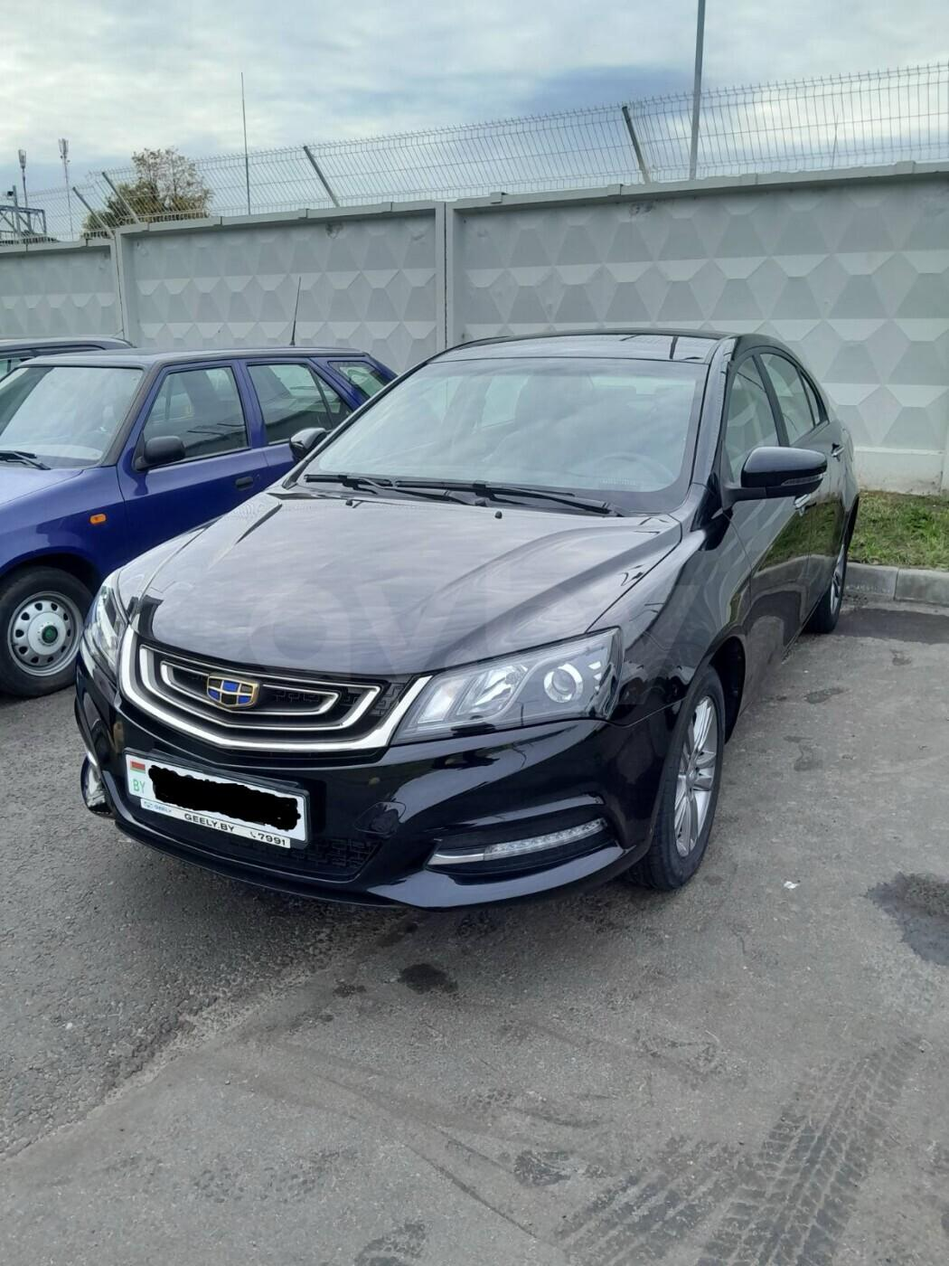Emgrand_2019-2021: (74, 326, 859, 907)
